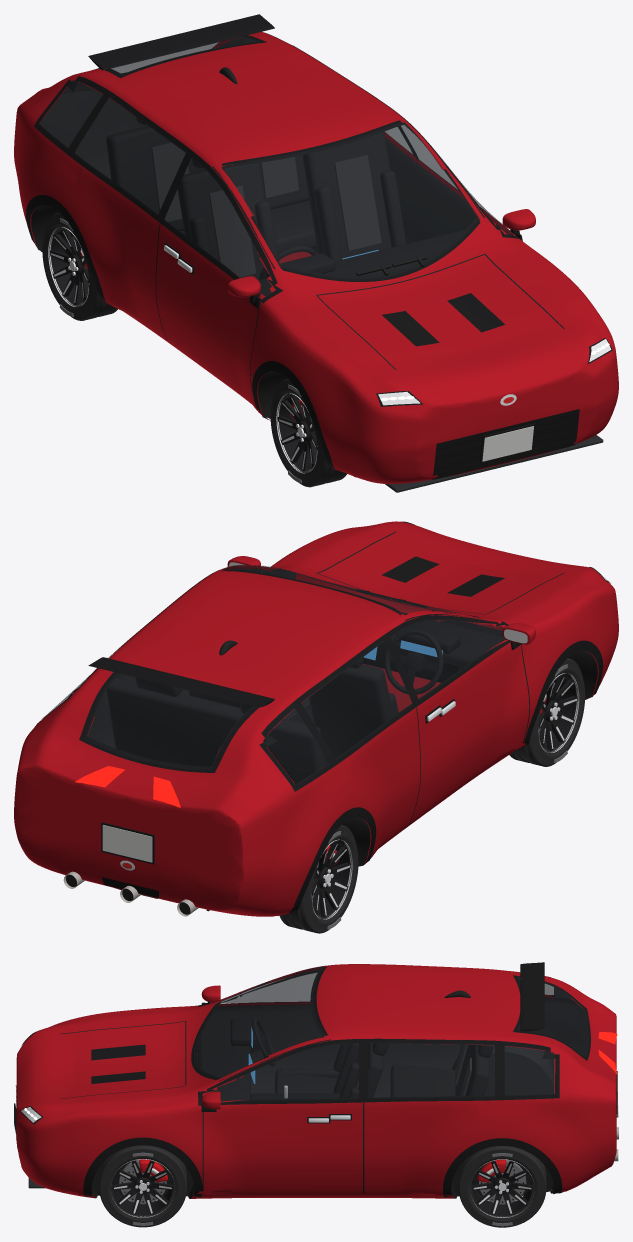
Rendered from grcorolla.glb.
3 renders of one model, top to bottom at view 1: azimuth 30°, elevation 25°; view 2: azimuth 150°, elevation 25°; view 3: azimuth 270°, elevation 25°, orthographic. The views are drawn at different scales.
Parts seen in each view (by area): view 1: Body, Wheel_FR, Wheel_RR; view 2: Body, Wheel_RR, Wheel_FR; view 3: Body, Wheel_FL, Wheel_RL.
Boxes of the visible parts, x1,y1,x2,y2 form: Body: (14, 14, 618, 492); Wheel_FR: (270, 378, 346, 487); Wheel_RR: (42, 212, 117, 320); Body: (14, 521, 618, 916); Wheel_RR: (279, 825, 358, 933); Wheel_FR: (509, 658, 585, 766); Body: (14, 962, 618, 1198); Wheel_FL: (99, 1145, 186, 1227); Wheel_RL: (458, 1146, 546, 1227).
Bounding box in the file's own units: 2.03 × 1.52 × 4.44.
